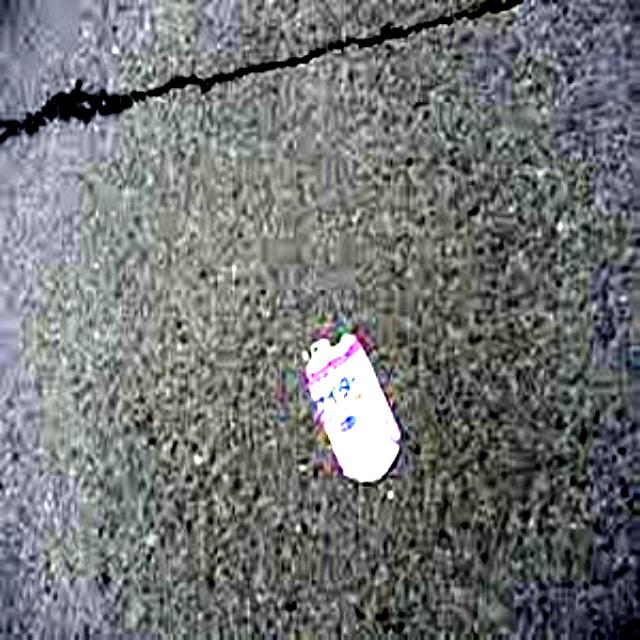Metal: (304, 332, 408, 481)
